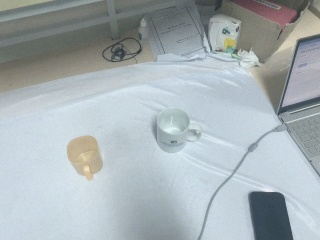box: (206, 13, 242, 53)
cup: (154, 106, 203, 155), (66, 135, 104, 181)
phone: (247, 189, 297, 240)
